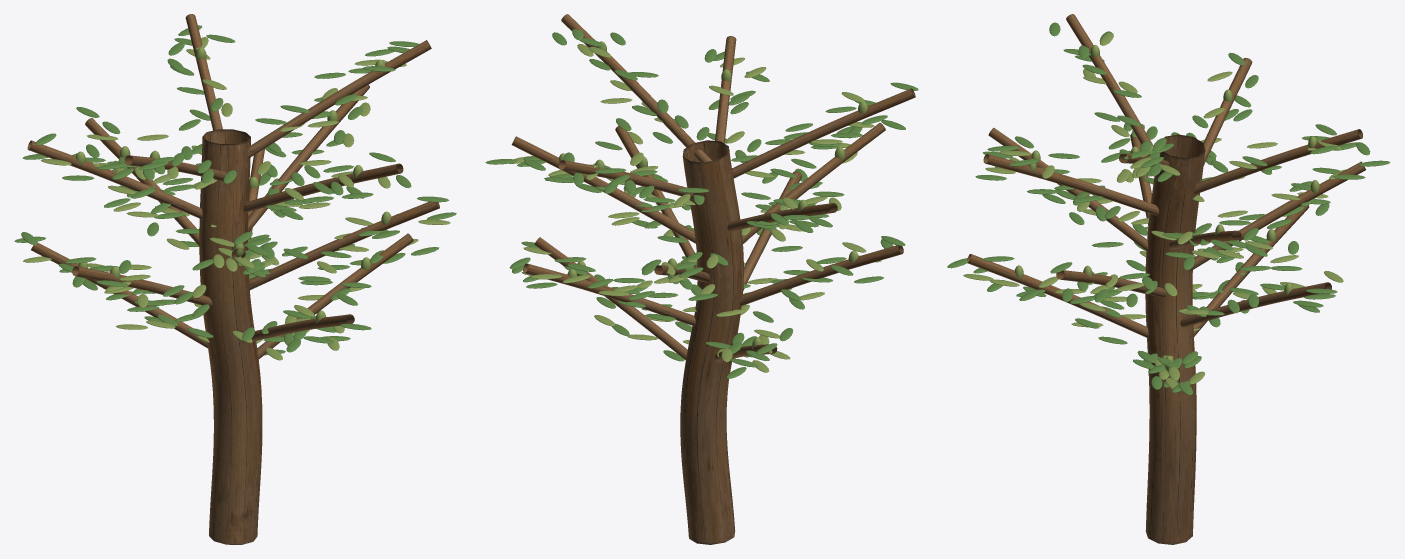
The model's file is figueira.glb.
The picture shows the model from 3 angles, left to right: view 1: azimuth 30°, elevation 25°; view 2: azimuth 150°, elevation 25°; view 3: azimuth 270°, elevation 25°; orthographic projection.
Parts seen in each view (by area): view 1: Tronco, Ramo.013, Ramo.005, Ramo.009, Ramo.010, Ramo.008, Ramo, Ramo.004, Ramo.001, Ramo.011, Ramo.002, Ramo.006 (+1 smaller); view 2: Tronco, Ramo.012, Ramo.008, Ramo.004, Ramo.013, Ramo.003, Ramo.007, Ramo, Ramo.011, Ramo.010, Ramo.009, Ramo.005 (+1 smaller); view 3: Tronco, Ramo.010, Ramo.002, Ramo.011, Ramo.006, Ramo.012, Ramo.003, Ramo.001, Ramo.007, Ramo.009, Ramo.005, Ramo.008.
Boxes of the visible parts, x1,y1,x2,y2 form: Tronco: [199, 129, 262, 544]; Ramo.013: [247, 40, 431, 158]; Ramo.005: [249, 201, 439, 289]; Ramo.009: [27, 140, 202, 218]; Ramo.010: [243, 163, 403, 212]; Ramo.008: [248, 84, 369, 231]; Ramo: [257, 233, 413, 359]; Ramo.004: [72, 266, 212, 307]; Ramo.001: [31, 242, 207, 348]; Ramo.011: [185, 14, 222, 130]; Ramo.002: [242, 314, 354, 343]; Ramo.006: [85, 118, 199, 245]; Tronco: [680, 140, 743, 544]; Ramo.012: [732, 88, 915, 178]; Ramo.008: [511, 136, 695, 243]; Ramo.004: [739, 245, 903, 305]; Ramo.013: [561, 14, 712, 162]; Ramo.003: [523, 263, 695, 325]; Ramo.007: [742, 122, 885, 243]; Ramo: [534, 237, 687, 359]; Ramo.011: [558, 160, 693, 198]; Ramo.010: [715, 36, 736, 143]; Ramo.009: [727, 203, 837, 231]; Ramo.005: [615, 126, 697, 267]; Tronco: [1145, 134, 1205, 544]; Ramo.010: [983, 154, 1159, 215]; Ramo.002: [967, 254, 1148, 337]; Ramo.011: [1194, 129, 1362, 194]; Ramo.006: [1190, 161, 1365, 270]; Ramo.012: [1066, 14, 1153, 155]; Ramo.003: [1180, 282, 1331, 327]; Ramo.001: [1193, 205, 1309, 336]; Ramo.007: [988, 128, 1147, 251]; Ramo.009: [1203, 57, 1252, 165]; Ramo.005: [1056, 270, 1166, 297]; Ramo.008: [1168, 230, 1241, 250].
Bounding box in the file's own units: 3.45 × 4.07 × 3.53.
3 materials, 1 textured.
